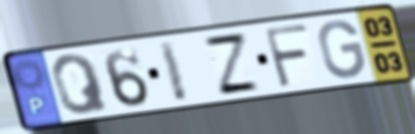6: (101, 47, 151, 109)
F: (261, 22, 312, 90)
G: (316, 18, 368, 81)
I: (155, 38, 191, 105)
Q: (49, 51, 113, 116)
Z: (200, 31, 264, 96)
